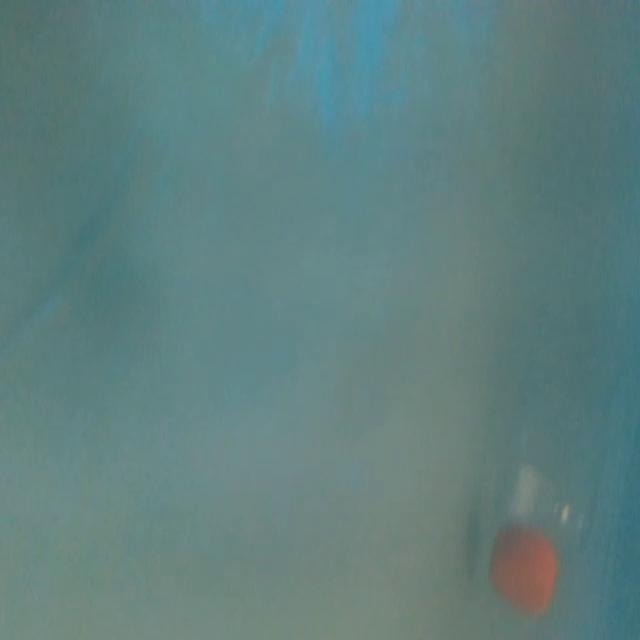plastic bottle: (483, 311, 616, 625)
